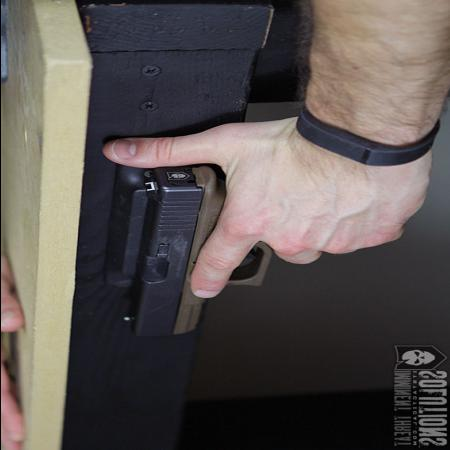Pistol: (107, 163, 268, 340)
